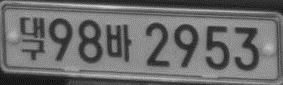2: (145, 21, 169, 67)
3: (234, 26, 259, 71)
5: (204, 25, 230, 70)
8: (77, 18, 102, 63)
9: (173, 23, 199, 68), (47, 17, 73, 61)
대구_V: (20, 16, 47, 61)
바: (106, 23, 131, 62)
